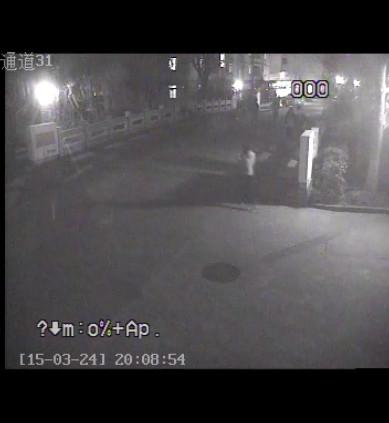person: (237, 138, 261, 213), (282, 108, 298, 150), (247, 99, 262, 136), (271, 101, 280, 125)
